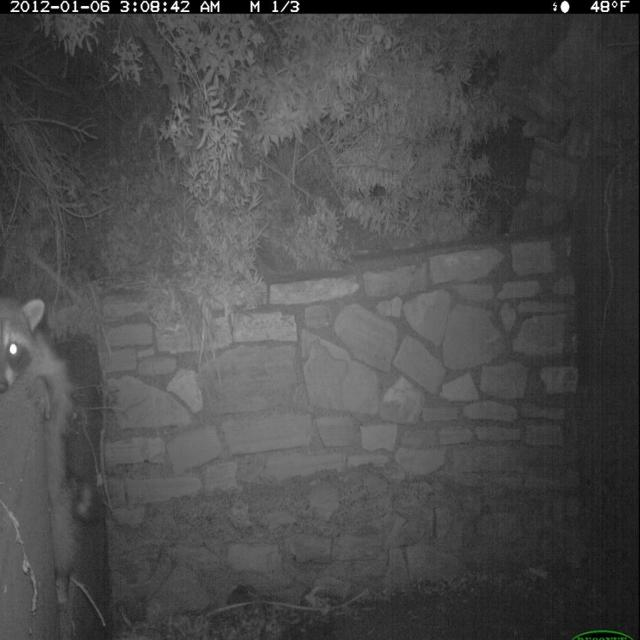raccoon: (2, 288, 109, 612)
